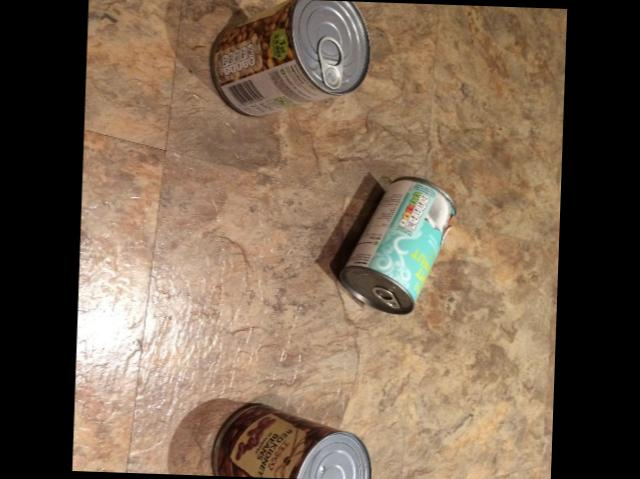metal: (211, 0, 370, 114), (340, 175, 456, 313), (213, 403, 371, 479)
